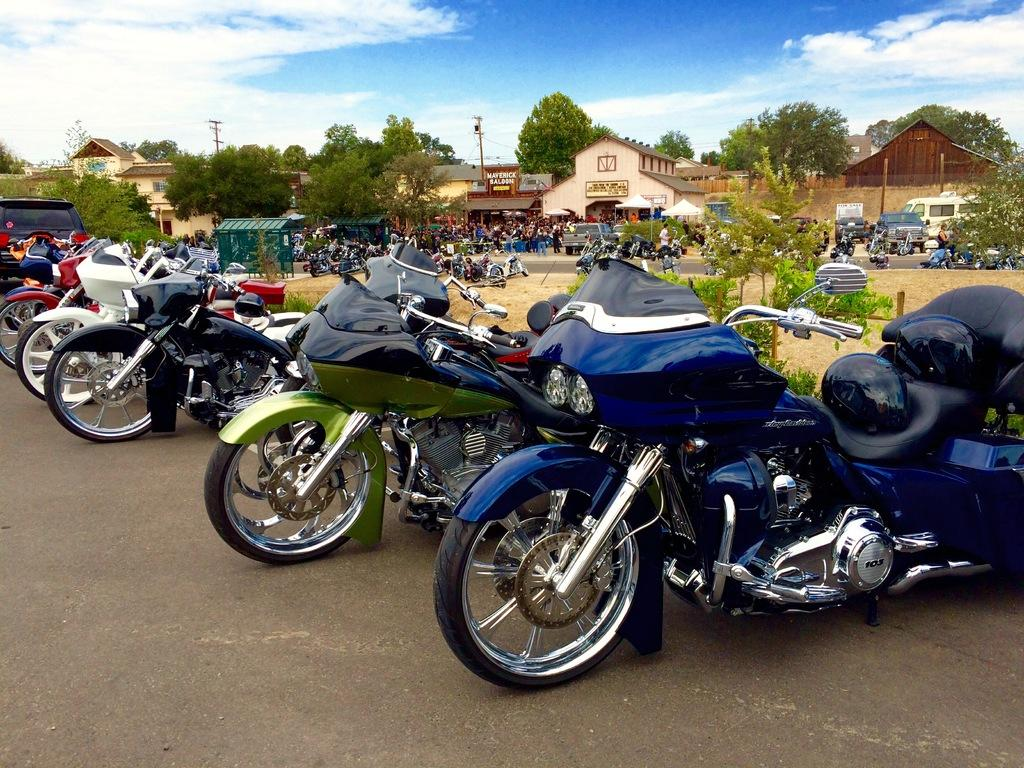helmet: (821, 352, 910, 433), (895, 314, 988, 388), (234, 292, 267, 327)
